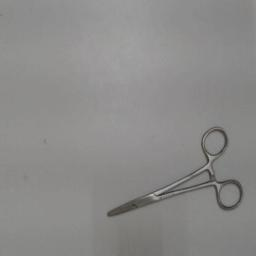Mayo Needle Holder: (102, 122, 248, 224)
